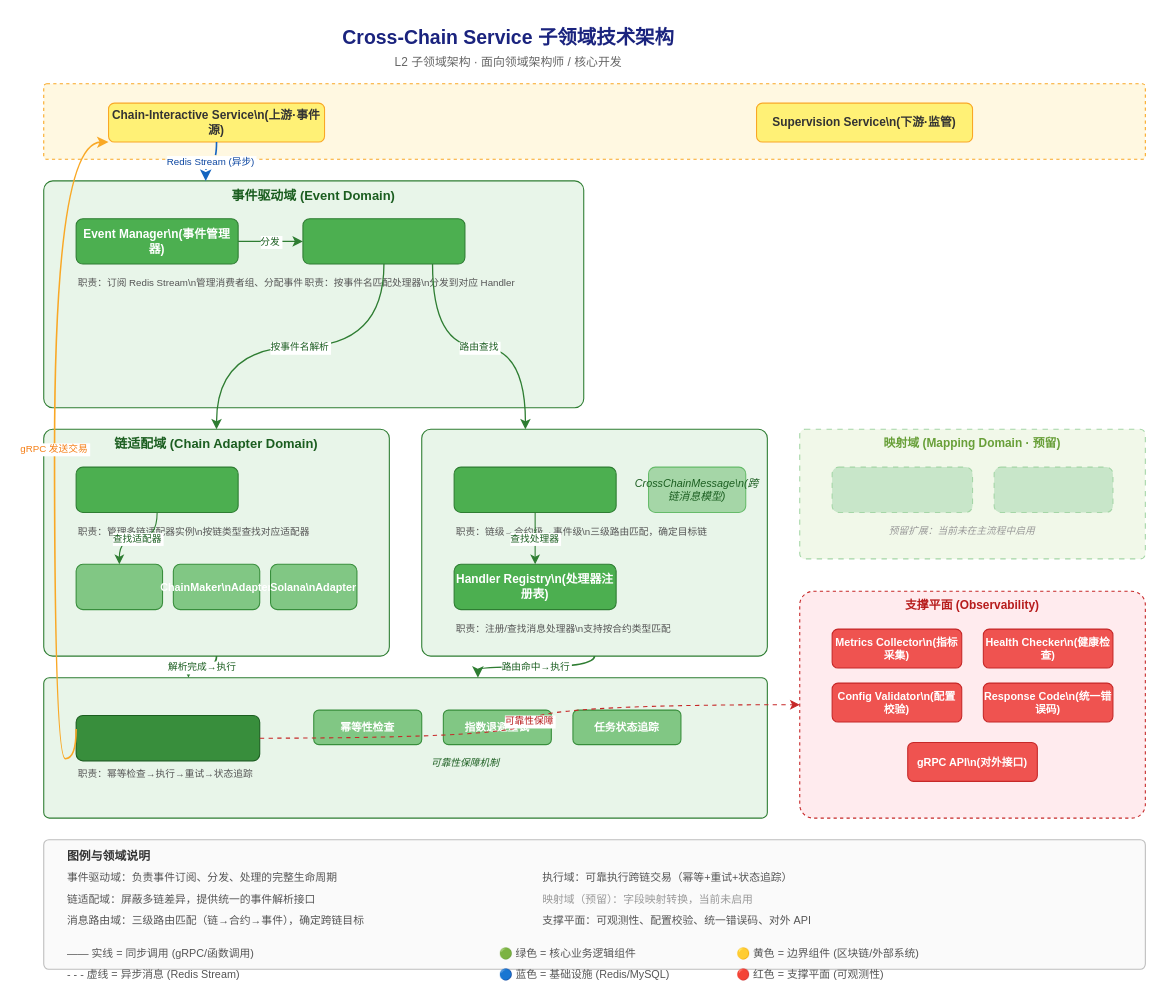
Some shapes in this 1164 by 1003 pixel diagram are drawn without their labels. The box of each missing label's shape, as (x1, y1, x2, y2) in pixels:
Adapter Registry\n(适配器注册表): (75, 466, 238, 512)
Ethereum\nAdapter: (75, 563, 163, 610)
Handler Dispatcher\n(事件分发器): (302, 218, 465, 264)
Mapping Engine\n(字段映射引擎): (831, 466, 973, 512)
Mapping Rule\n(映射规则): (993, 466, 1113, 512)
Message Router\n(三级路由引擎): (453, 466, 616, 512)
Reliable Executor\n(可靠跨链执行器): (75, 714, 260, 761)
外部边界: (43, 83, 1145, 159)
执行域 (Execution Domain): (43, 677, 767, 818)
消息路由域 (Message Routing Domain): (421, 428, 767, 656)
